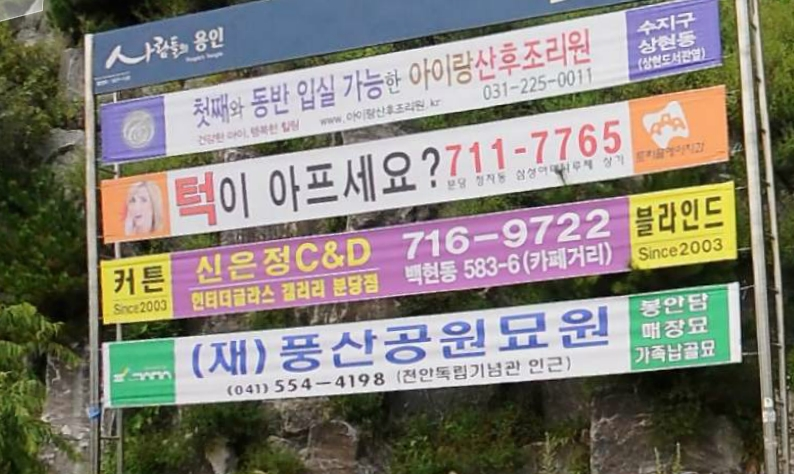banner: (91, 166, 743, 335), (105, 75, 729, 251), (94, 1, 734, 168), (86, 273, 753, 416)
